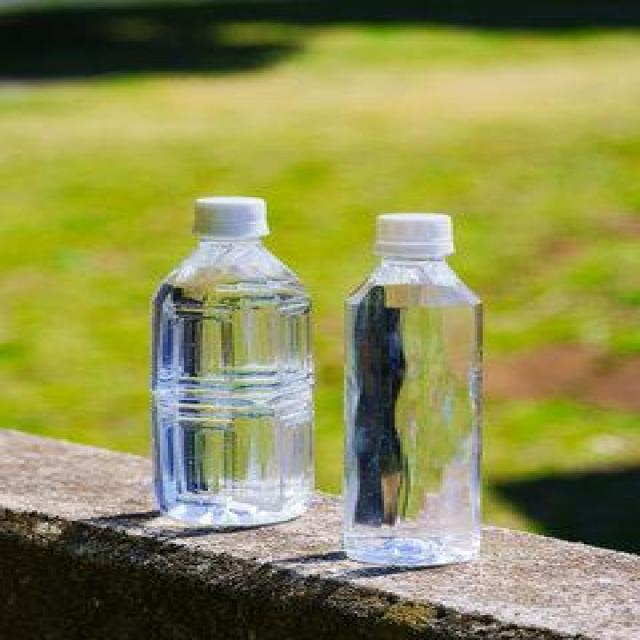bottle: (142, 198, 314, 527), (339, 202, 493, 564)
